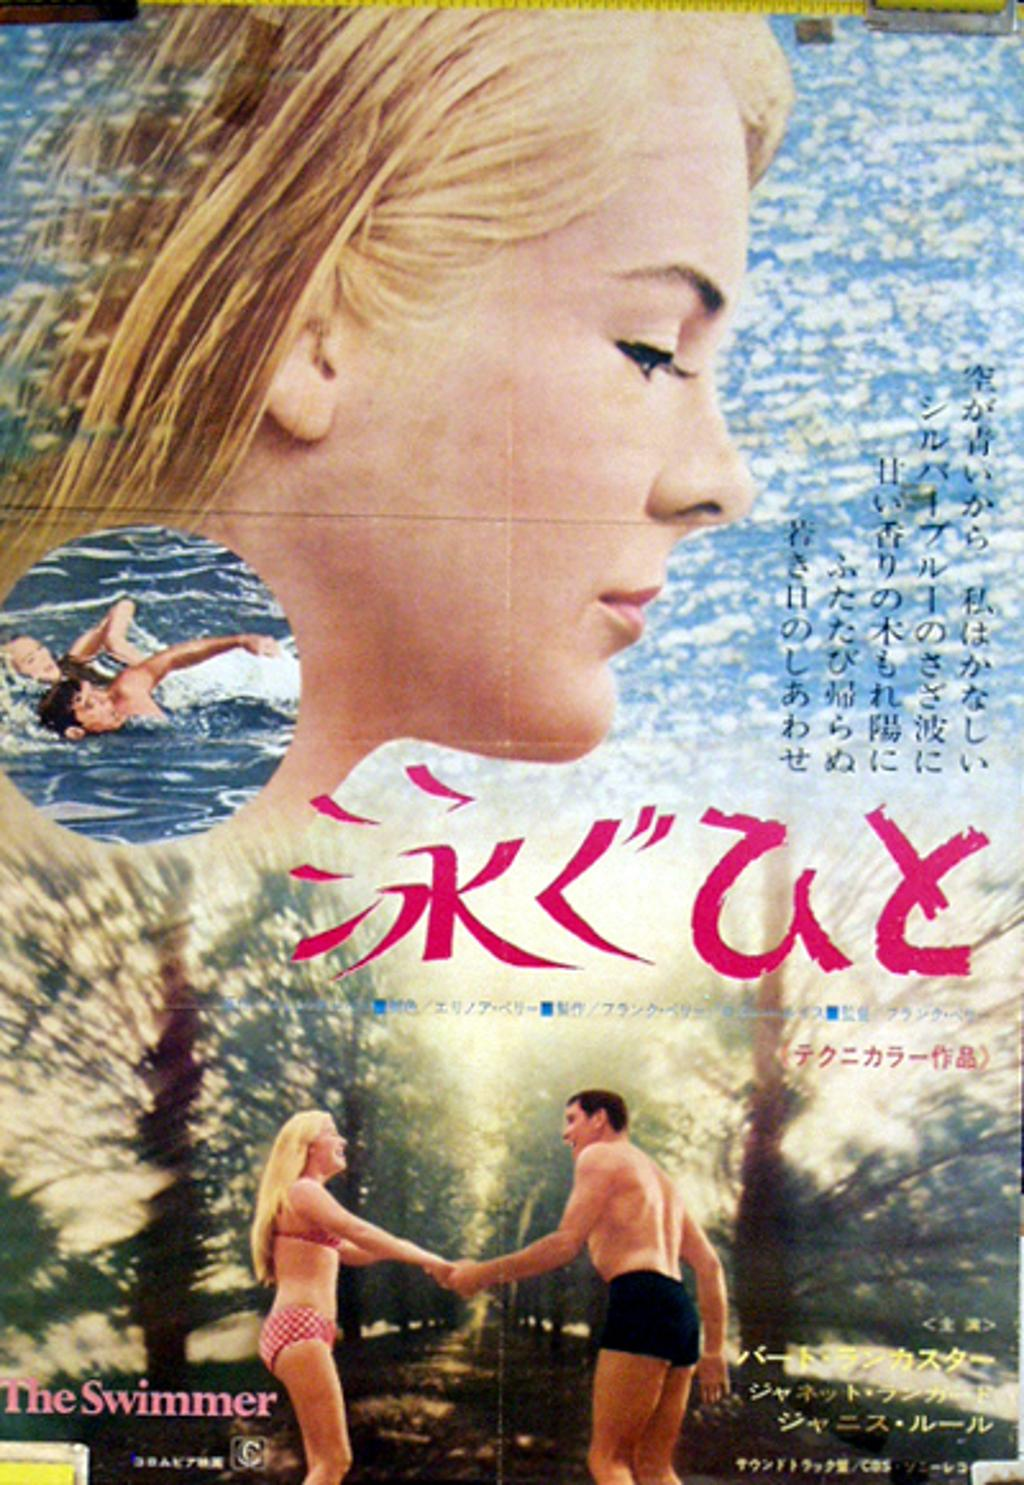face: (341, 100, 755, 766), (12, 638, 61, 681), (71, 681, 119, 722), (561, 1102, 594, 1160), (315, 1120, 346, 1170)
